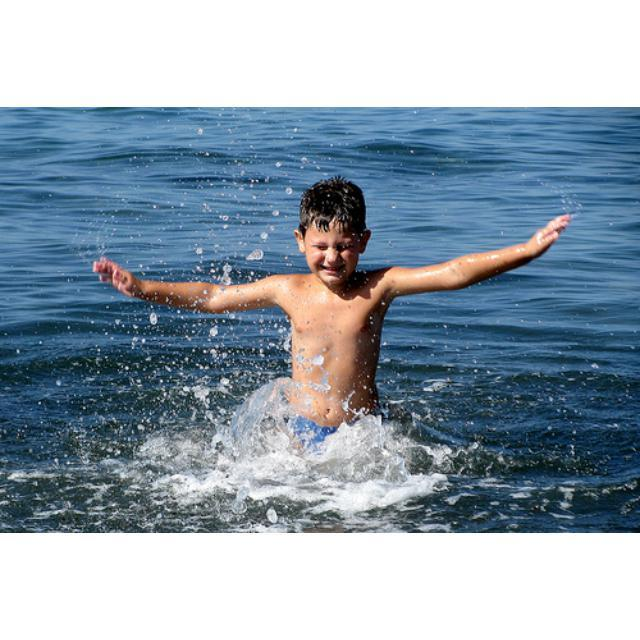human: (95, 174, 571, 458)
